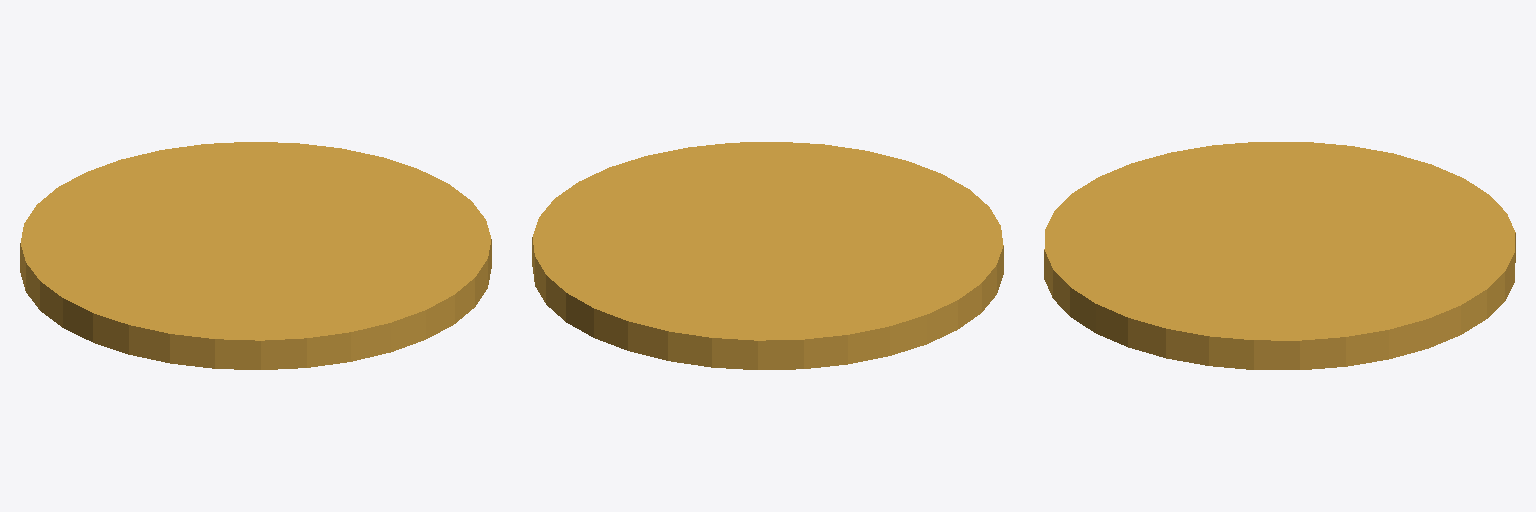
URDF robot description (Interference):
<?xml version="1.0"?>
<robot name="Interference">
  <link name="baseLink">
    <inertial>
      <origin xyz="0.0 0.0 0.0" rpy="0.0 0.0 0.0"/>
      <inertia ixx="0.0" ixy="0.0" ixz="0.0" iyy="0.0" iyz="0.0" izz="0.0"/>
      <mass value="0"/>
    </inertial>
    <visual>
      <origin xyz="0.0 0.0 0.0" rpy="0.0 0.0 1.0682670126437444"/>
      <geometry>
        <cylinder radius="0.07193778169420778" length="0.01"/>
      </geometry>
      <material name="color">
        <color rgba="0.865632885526186 0.6827392085228485 0.3158243095625445 1.0"/>
      </material>
    </visual>
  </link>
</robot>

--- Render facts (derived) ---
3 views of the same robot in one strip: view 1: azimuth 30°, elevation 25°; view 2: azimuth 150°, elevation 25°; view 3: azimuth 270°, elevation 25° (orthographic).
Model Interference with 1 links and 0 joints (none), rooted at baseLink, posed every joint at zero.
Links seen in each view (by area): view 1: baseLink; view 2: baseLink; view 3: baseLink.
Boxes of the visible links, x1,y1,x2,y2 form: baseLink: [20, 142, 491, 369]; baseLink: [532, 142, 1003, 369]; baseLink: [1044, 142, 1515, 369].
Size in the robot's own frame: 0.1433 by 0.1433 by 0.01 metres.
Geometry: primitives only (box / cylinder / sphere), no mesh files.